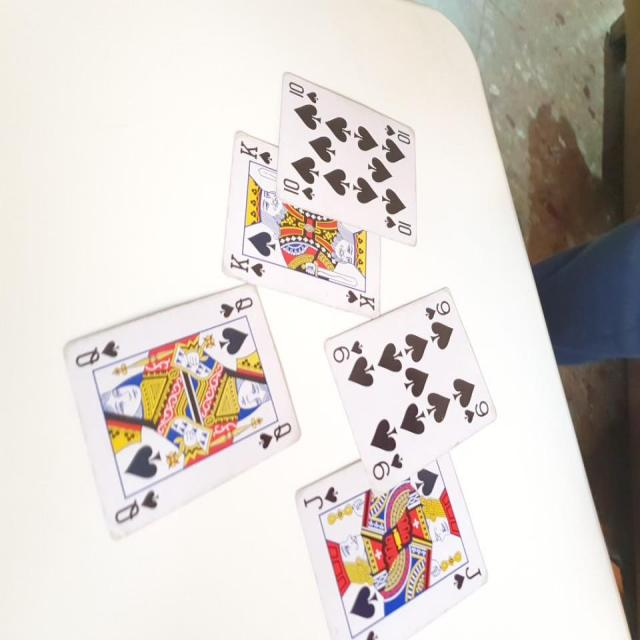10 Spades: (274, 66, 423, 253)
9 Spades: (320, 282, 501, 493)
J Spades: (289, 451, 487, 640)
K Spades: (217, 125, 391, 324)
Q Spades: (63, 283, 304, 542)
